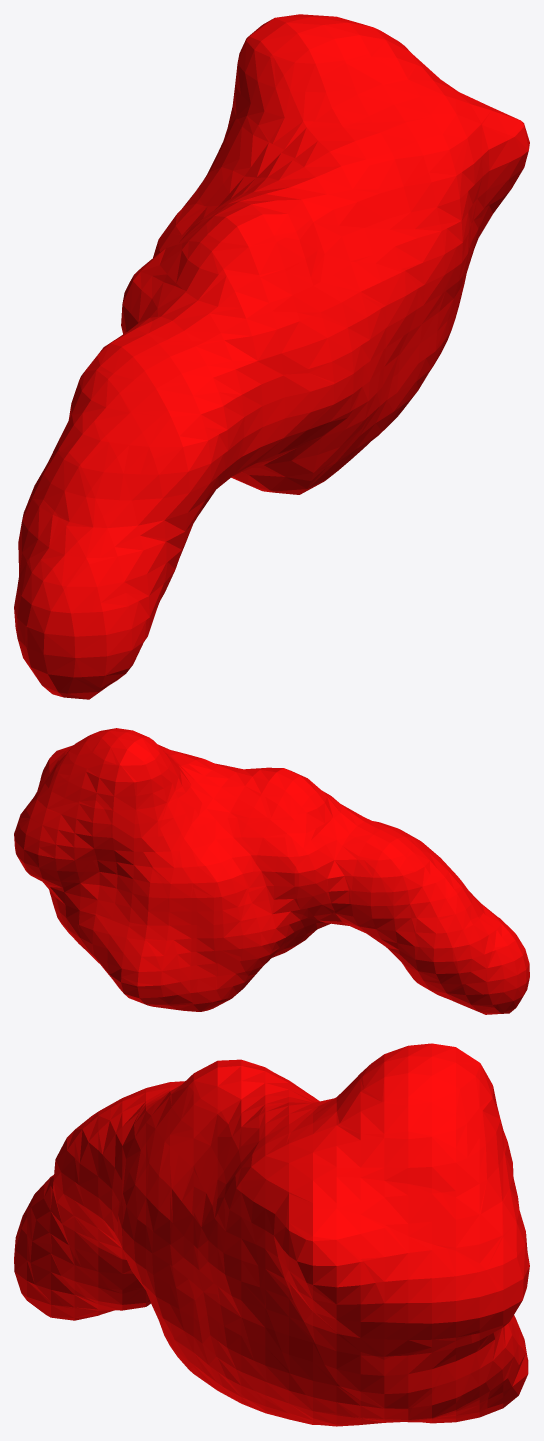
File: rplV_coarse.dae
3 views of the same model, one above another, from view 1: azimuth 30°, elevation 25°; view 2: azimuth 150°, elevation 25°; view 3: azimuth 270°, elevation 25° (orthographic). The views are drawn at different scales.
Parts seen in each view (by area): view 1: rplV; view 2: rplV; view 3: rplV.
Part boxes in pixels (left/top/right/bottom): rplV: left=14, top=14, right=529, bottom=699; rplV: left=14, top=728, right=529, bottom=1014; rplV: left=14, top=1043, right=529, bottom=1426.
Bounding box in the file's own units: 58.85 × 41.08 × 40.95.
